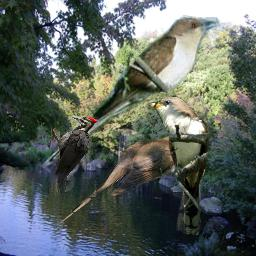Cuckoo: (36, 15, 224, 175), (59, 133, 201, 225), (145, 96, 212, 235)
Woodpecker: (50, 116, 98, 195)
